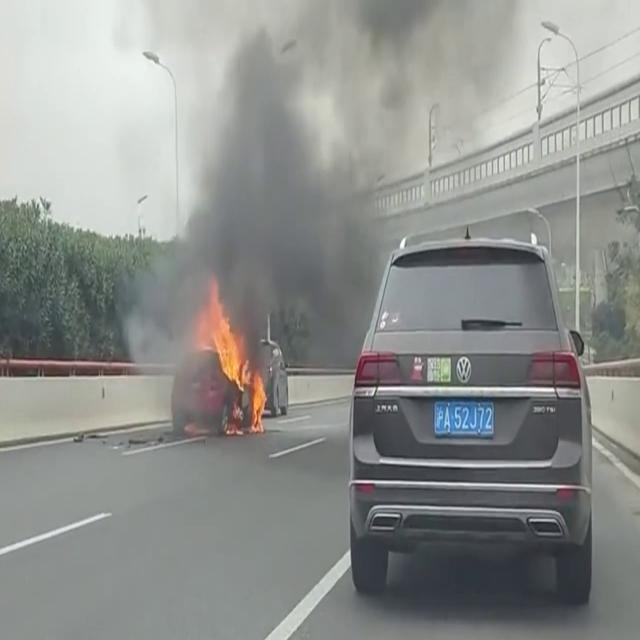multiple_accident: (150, 241, 323, 496)
normal: (356, 240, 599, 640)
